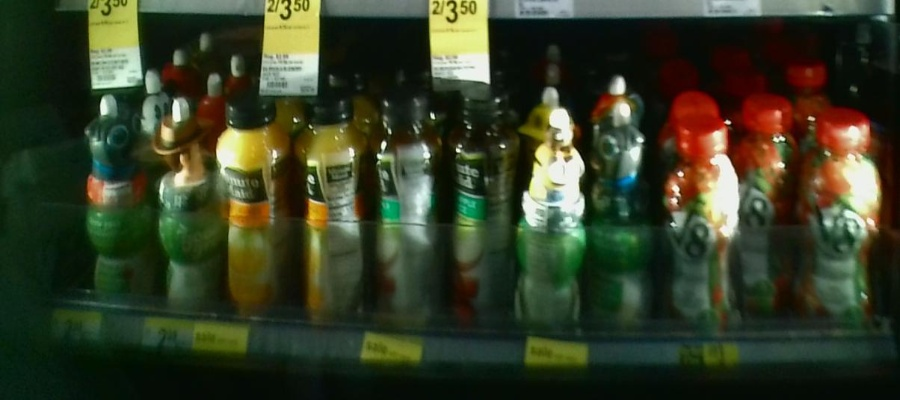bottle: (801, 105, 883, 332), (661, 114, 742, 337), (371, 78, 442, 328), (295, 85, 369, 324), (447, 77, 515, 332), (517, 115, 590, 341), (215, 93, 289, 315), (150, 92, 216, 311), (81, 87, 147, 305), (737, 90, 798, 320), (594, 101, 650, 332)
